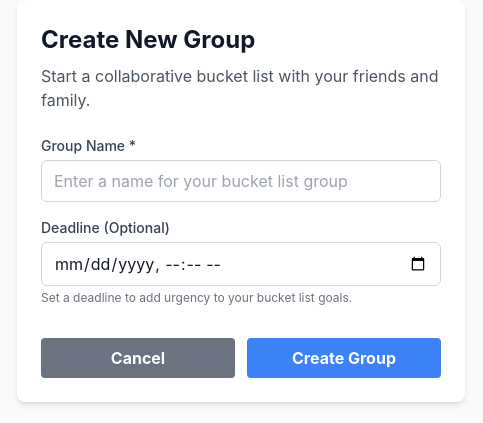
Test: CreateGroupForm › shows success state after group creation
Type "Test Group" into the field labelled "Group Name *".
click(241, 181); type("Test Group")  # box top-left (41, 160), bottom-right (441, 202)
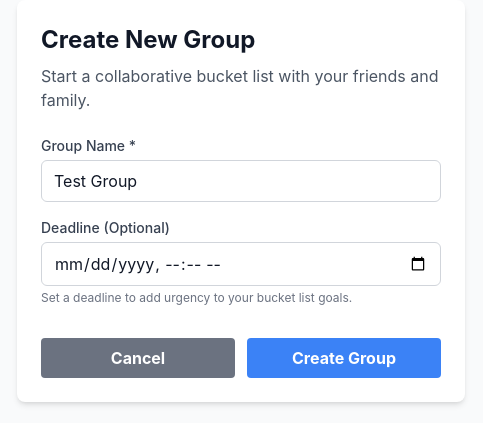
Click the button "Create Group".
click(344, 358)  # box top-left (247, 338), bottom-right (441, 378)
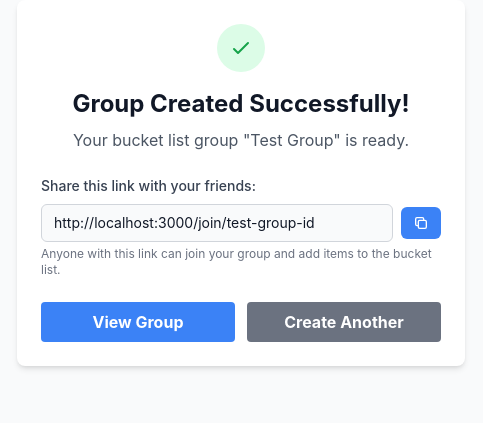
Now the heading "Group Created Successfully!" is shown, box top-left (72, 89), bottom-right (410, 118)
Now the text "Your bucket list group \"Test Group\" is ready." is shown, box top-left (73, 130), bottom-right (409, 150)
Now the field showing "http://localhost:3000/join/test-group-id" is shown, box top-left (41, 204), bottom-right (393, 242)
